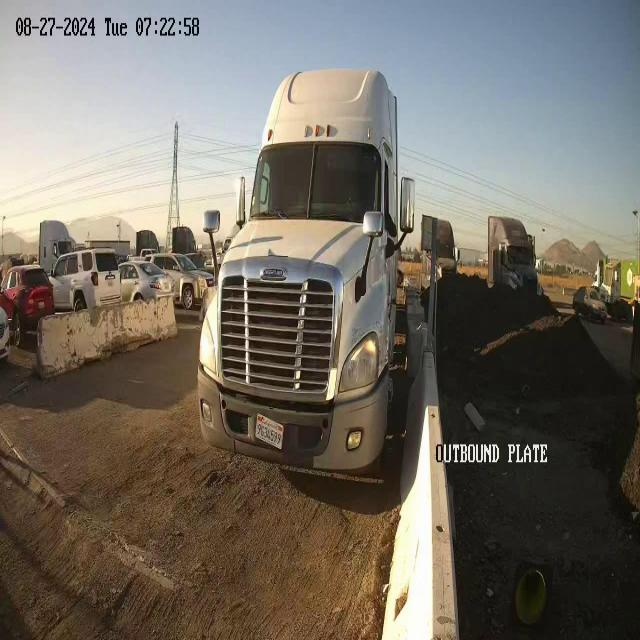TRUCK_OUT: (197, 66, 415, 476)
